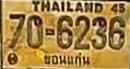0: (26, 14, 43, 48)
2: (74, 15, 89, 49)
3: (90, 16, 106, 49)
6: (108, 16, 125, 49), (56, 14, 72, 48)
7: (8, 13, 25, 48)
KKN: (41, 50, 93, 68)
